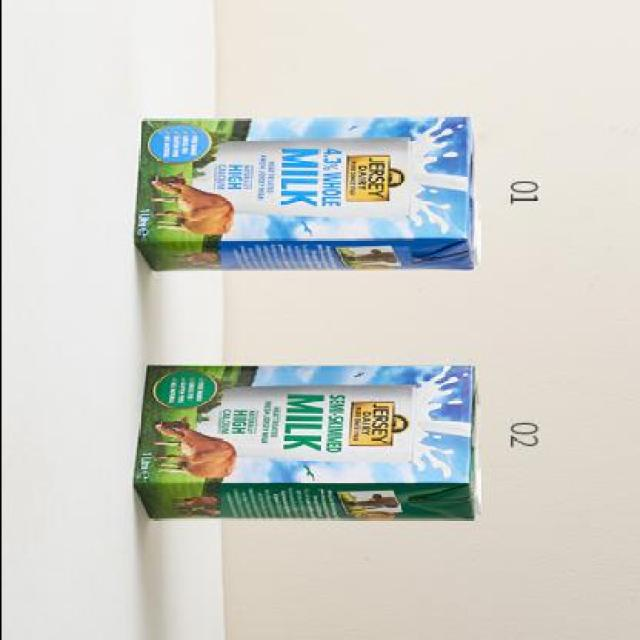tetra: (107, 352, 493, 536), (124, 108, 493, 294)
